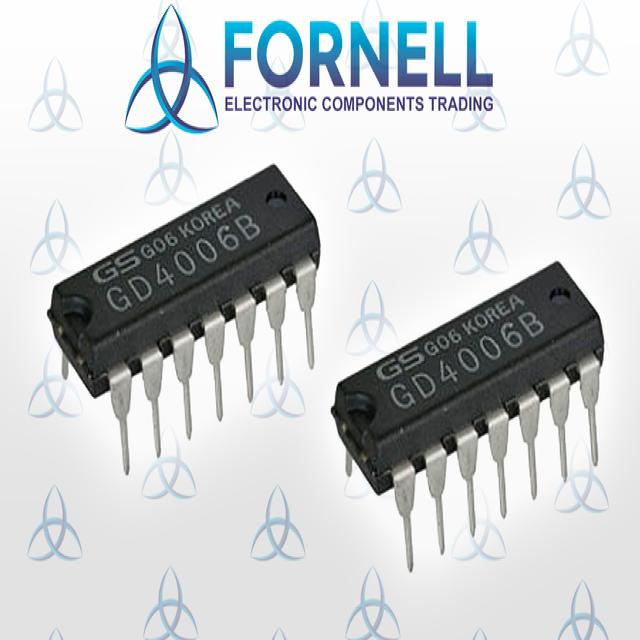IC: (334, 259, 608, 570), (48, 163, 320, 476)
